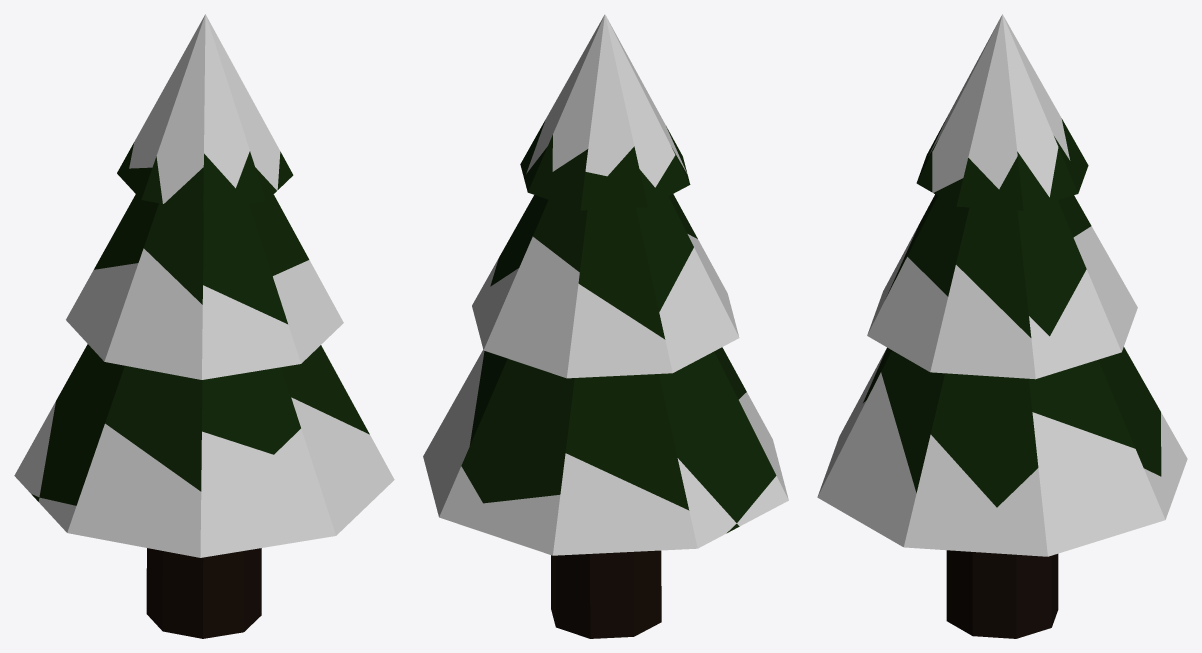
Rendered from arvore_com_neve.FBX.
The picture shows the model from 3 angles, left to right: view 1: azimuth 30°, elevation 25°; view 2: azimuth 150°, elevation 25°; view 3: azimuth 270°, elevation 25°; orthographic projection.
Visible parts, largest first — view 1: Cone_118; view 2: Cone_118; view 3: Cone_118.
Part boxes in pixels (x1=…): Cone_118: x1=14, y1=14, x2=394, y2=638; Cone_118: x1=423, y1=14, x2=788, y2=638; Cone_118: x1=817, y1=14, x2=1187, y2=638.
Size of the model in its own units: 867 by 1555 by 867.
